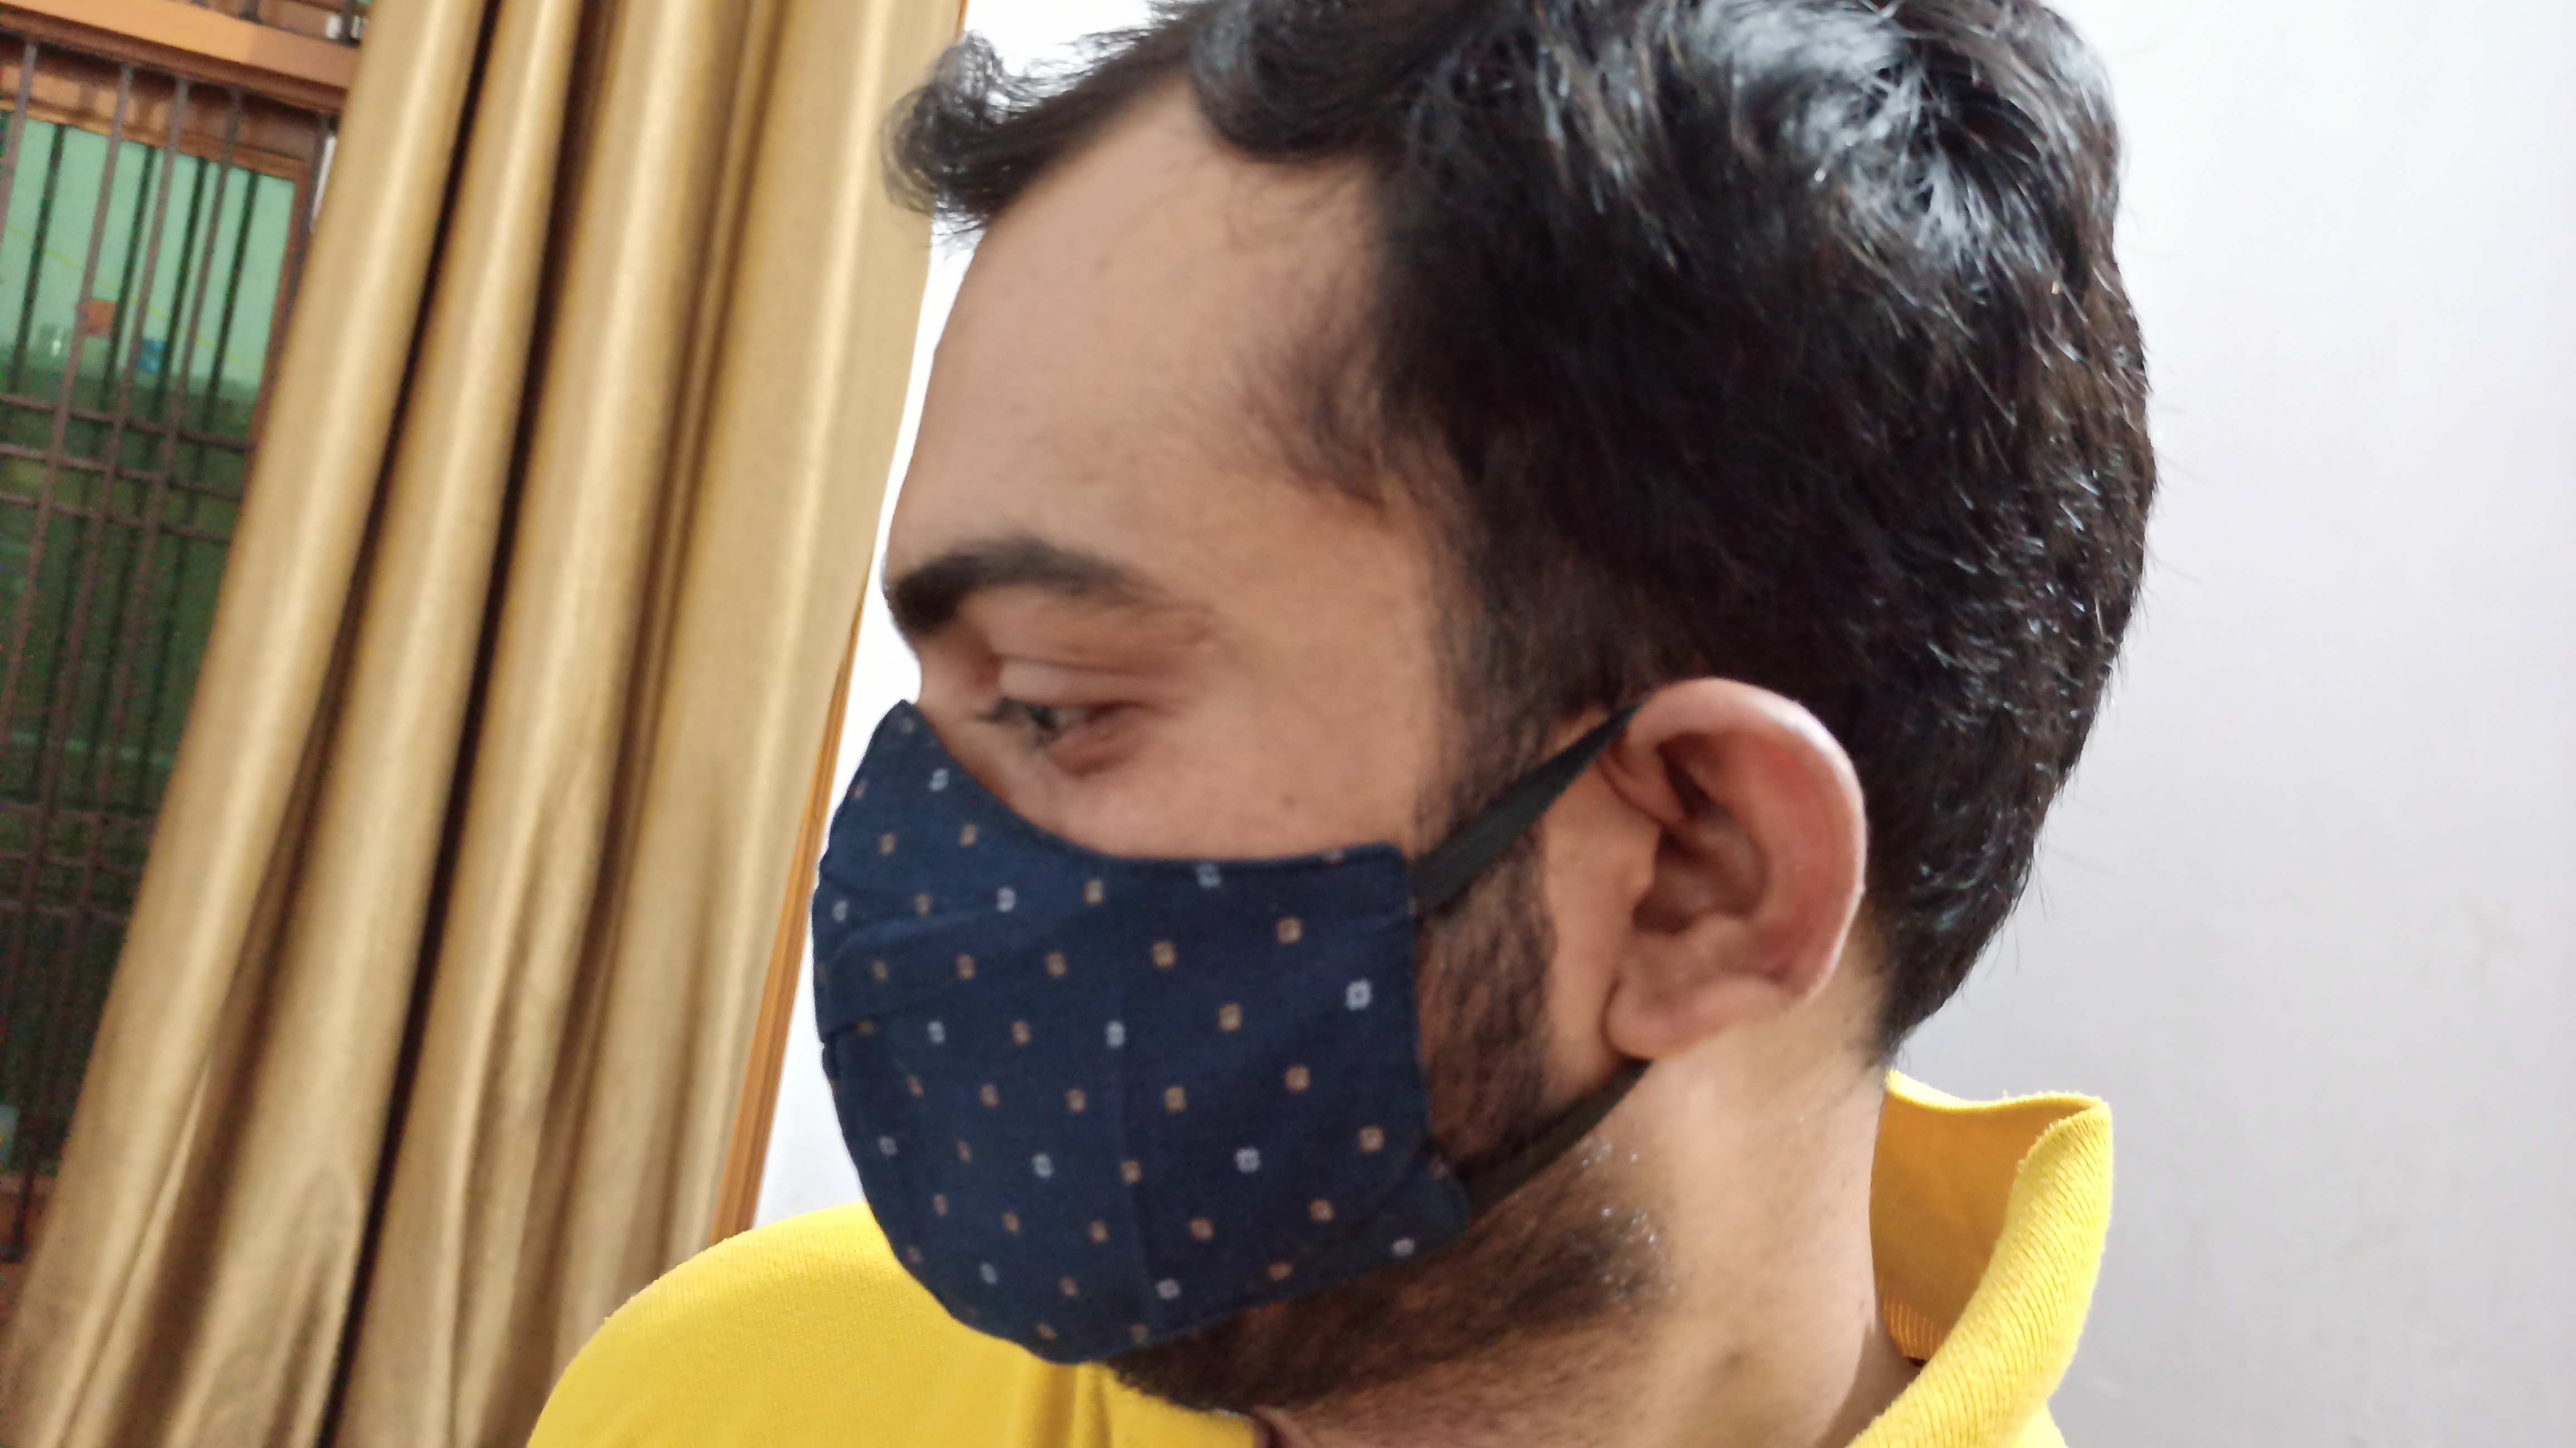Mask: (798, 695, 1978, 1388)
